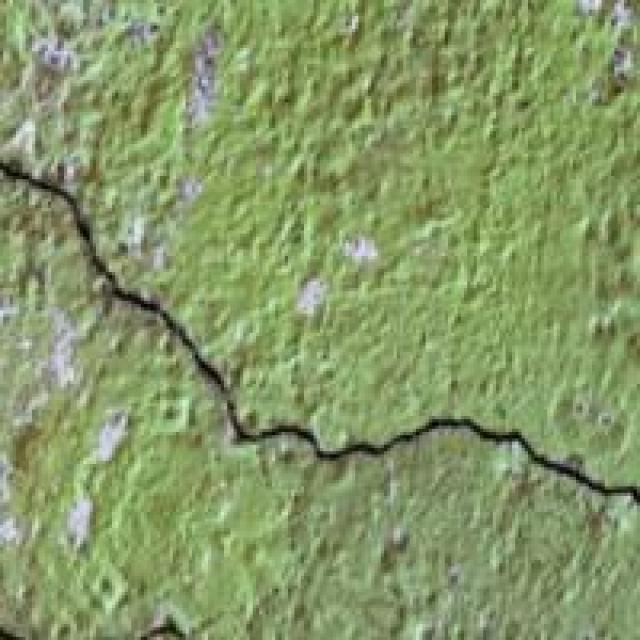crack: (3, 141, 637, 541)
